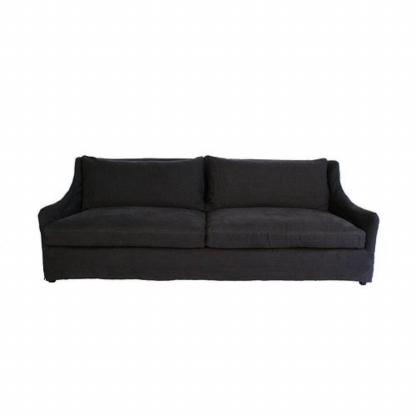Sofa: (39, 155, 380, 288)
